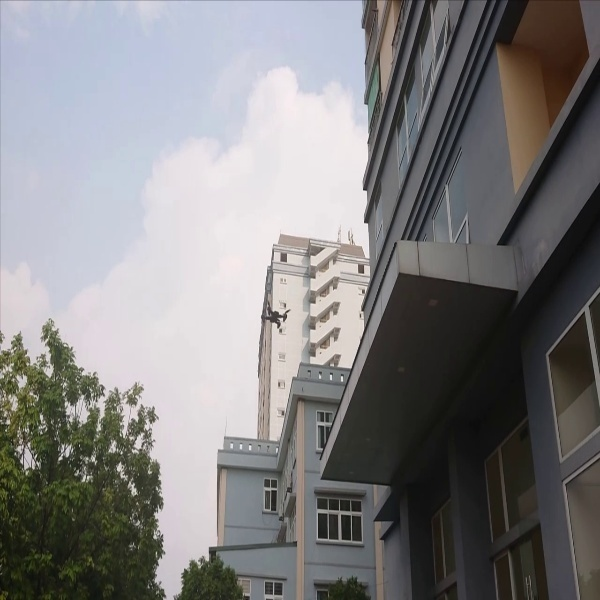drone: (259, 301, 295, 334)
